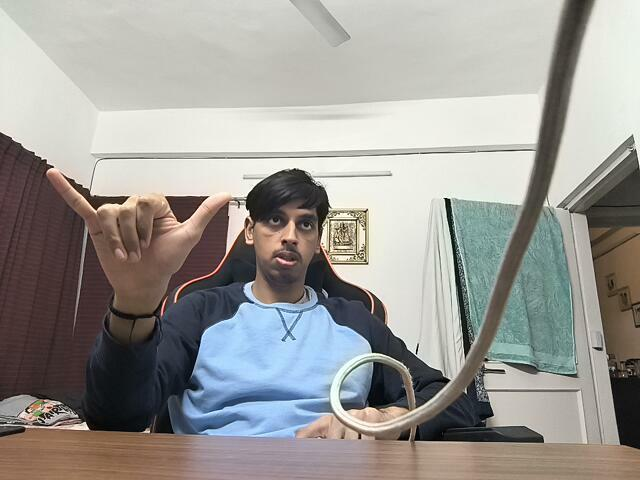FLIP: (39, 160, 232, 308)
